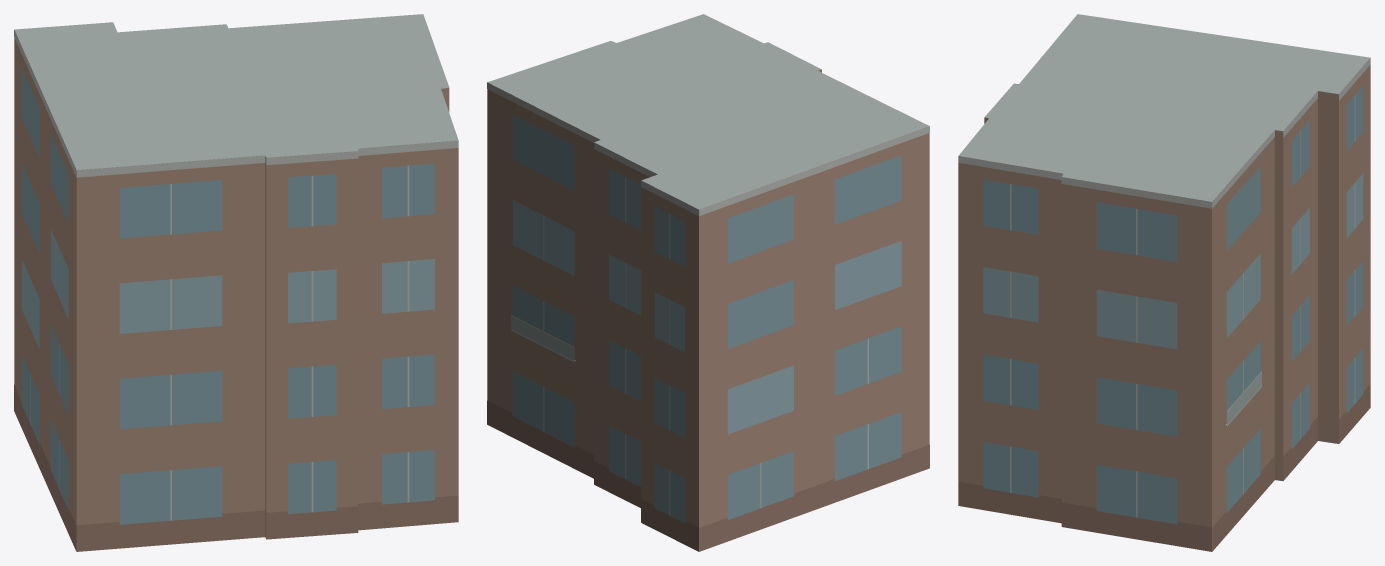
File: survey-upis-32513440.glb
The picture shows the model from 3 angles, left to right: view 1: azimuth 30°, elevation 25°; view 2: azimuth 150°, elevation 25°; view 3: azimuth 270°, elevation 25°; orthographic projection. The views are drawn at different scales.
Visible parts, largest first — view 1: survey-upis-32513440.tmp; view 2: survey-upis-32513440.tmp; view 3: survey-upis-32513440.tmp.
Boxes of the visible parts, bbox=[...] form: survey-upis-32513440.tmp: bbox=[14, 14, 458, 551]; survey-upis-32513440.tmp: bbox=[487, 14, 929, 551]; survey-upis-32513440.tmp: bbox=[958, 14, 1370, 551].
Bounding box in the file's own units: 14.47 × 12.55 × 13.41.
